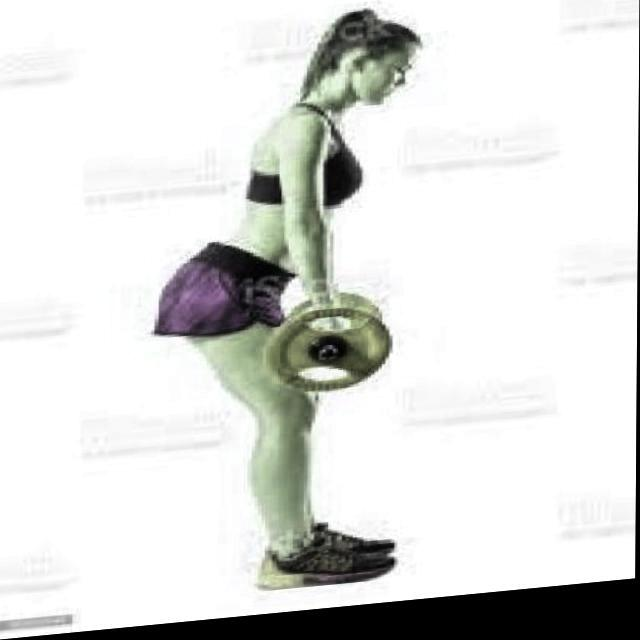barbell: (265, 305, 395, 410)
